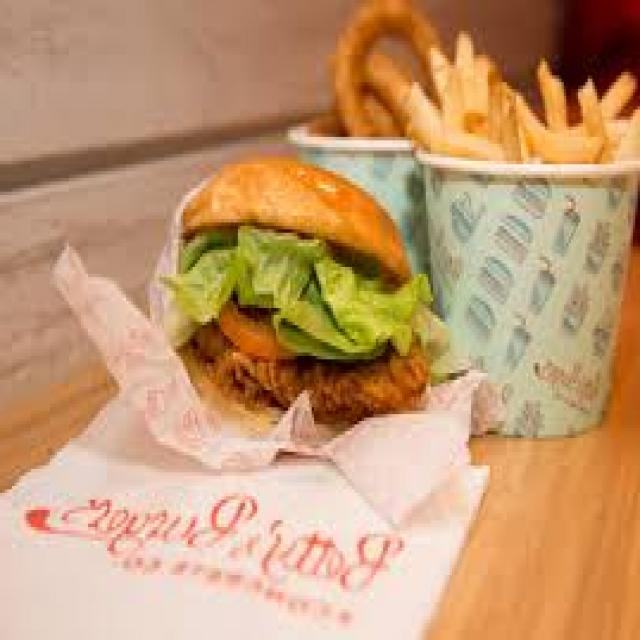Burger: (164, 147, 421, 466)
French Fries: (410, 25, 637, 200)
Onion Rings: (304, 0, 438, 144)
